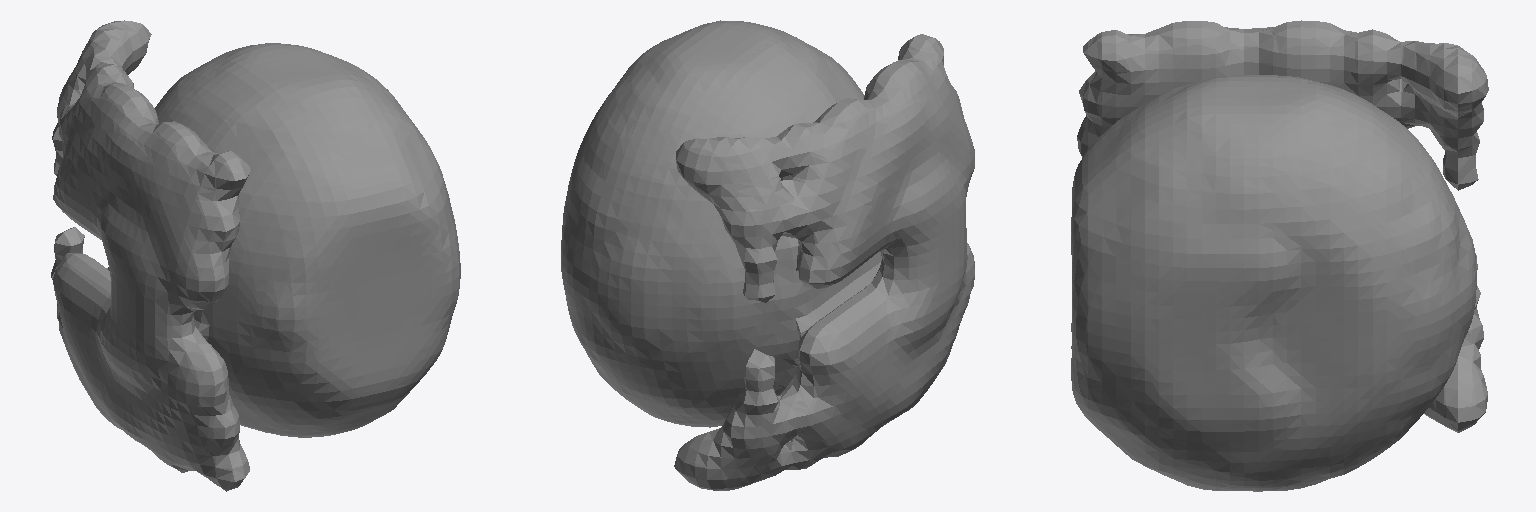
robot.urdf — cube.urdf:
<?xml version="0.0" ?> 
<robot name="cube.urdf"> 
<link name="legobrick"> 
<contact> 
<lateral_friction value="5.0"/> 
<rolling_friction value="0.0"/> 
<contact_cfm value="0.0"/> 
<contact_erp value="1.0"/> 
</contact> 
<inertial> 
<origin rpy="0 0 0" xyz="0.0 0.0 0.0"/> 
<mass value=".01"/> 
<inertia ixx="1" ixy="0" ixz="0" iyy="1" iyz="0" izz="1"/> 
</inertial> 
<visual> 
<origin rpy="1.570796 0 0" xyz="-0.022647062524367424 0.0273436872812438 -0.026098829628569502"/> 
<geometry> 
<mesh filename="H12_1.obj" scale="0.0006531628599061329 0.0006531628599061329 0.0006531628599061329"/> 
</geometry> 
<material name="yellow"> 
<color rgba="0.6 0.6 0.6 1"/> 
</material> 
</visual> 
<collision> 
<origin rpy="1.570796 0 0" xyz="-0.022647062524367424 0.0273436872812438 -0.026098829628569502"/> 
<geometry> 
<mesh filename="H12_1.obj" scale="0.0006531628599061329 0.0006531628599061329 0.0006531628599061329"/> 
</geometry> 
</collision> 
</link> 
</robot>

--- Render facts (derived) ---
The picture shows the robot from 3 angles, left to right: view 1: azimuth 30°, elevation 25°; view 2: azimuth 150°, elevation 25°; view 3: azimuth 270°, elevation 25°; orthographic projection.
Model cube.urdf with 1 links and 0 joints (none), rooted at legobrick, posed every joint at zero.
Visible links, largest first — view 1: legobrick; view 2: legobrick; view 3: legobrick.
Boxes of the visible links, box(x1,y1,x2,y2) form: legobrick: box(51, 20, 460, 491); legobrick: box(561, 20, 974, 490); legobrick: box(1071, 20, 1488, 491).
Bounding box of the posed robot: 0.0521 × 0.056 × 0.0565 m (x, y, z).
Meshes: 1 distinct files referenced, 1 mesh visuals loaded (1 OBJ).
